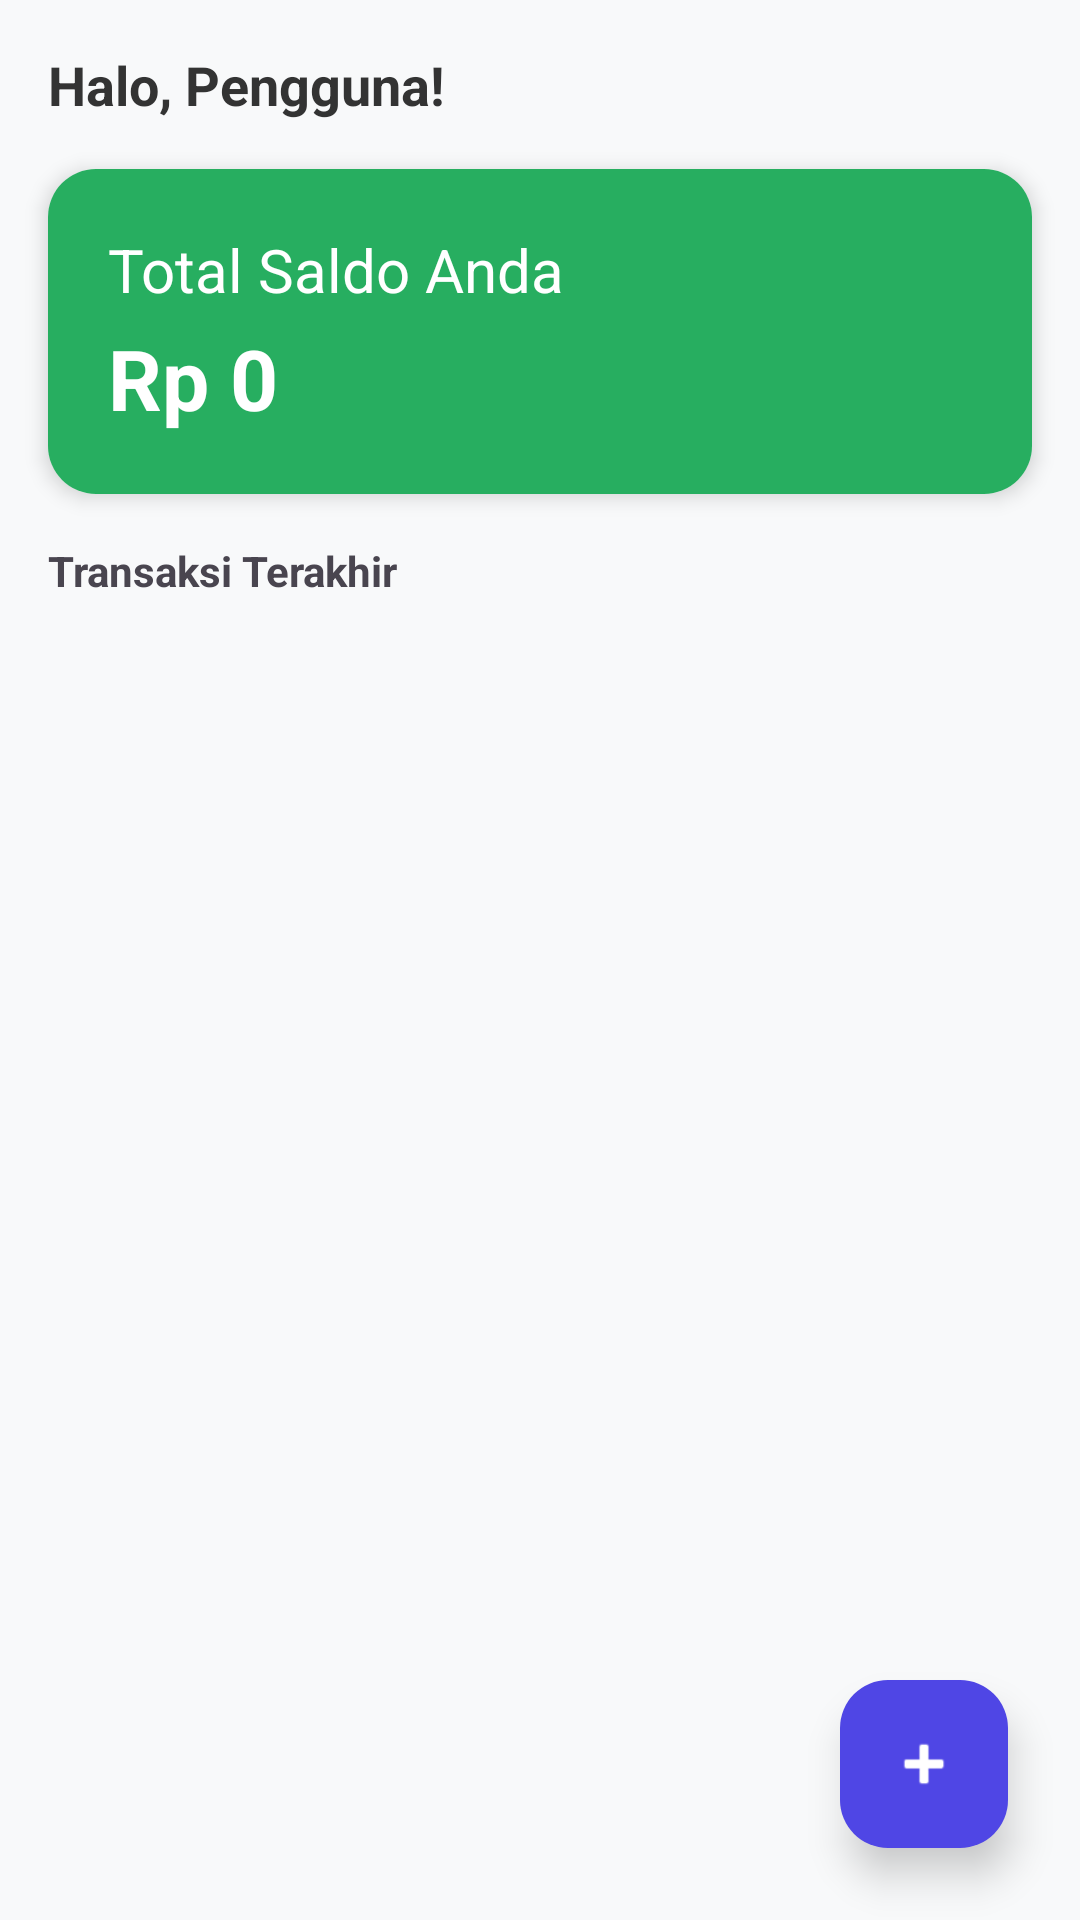

Locate icon controls on the screen. Image size 1080 × 1920, boxes as {"x1": x1, "y1": y1, "x2": x2, "y2": y2}.
Tambah transaksi baru: {"x1": 840, "y1": 1680, "x2": 1008, "y2": 1848}
